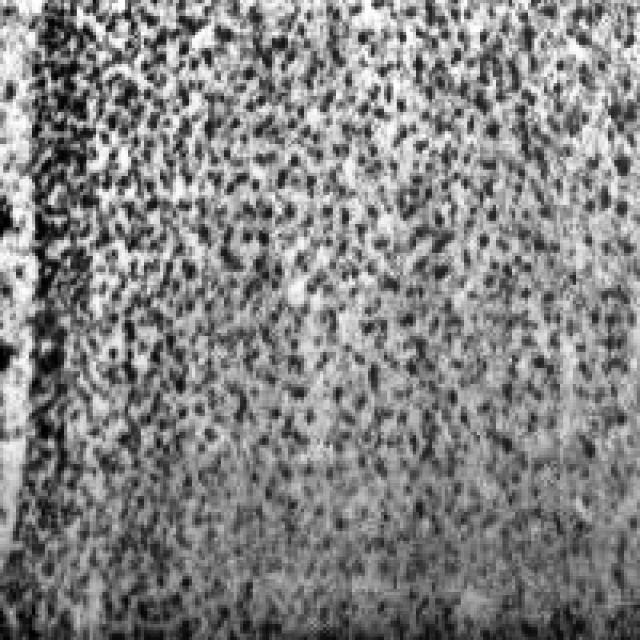Rolled_in_Scale: (19, 0, 637, 637)
